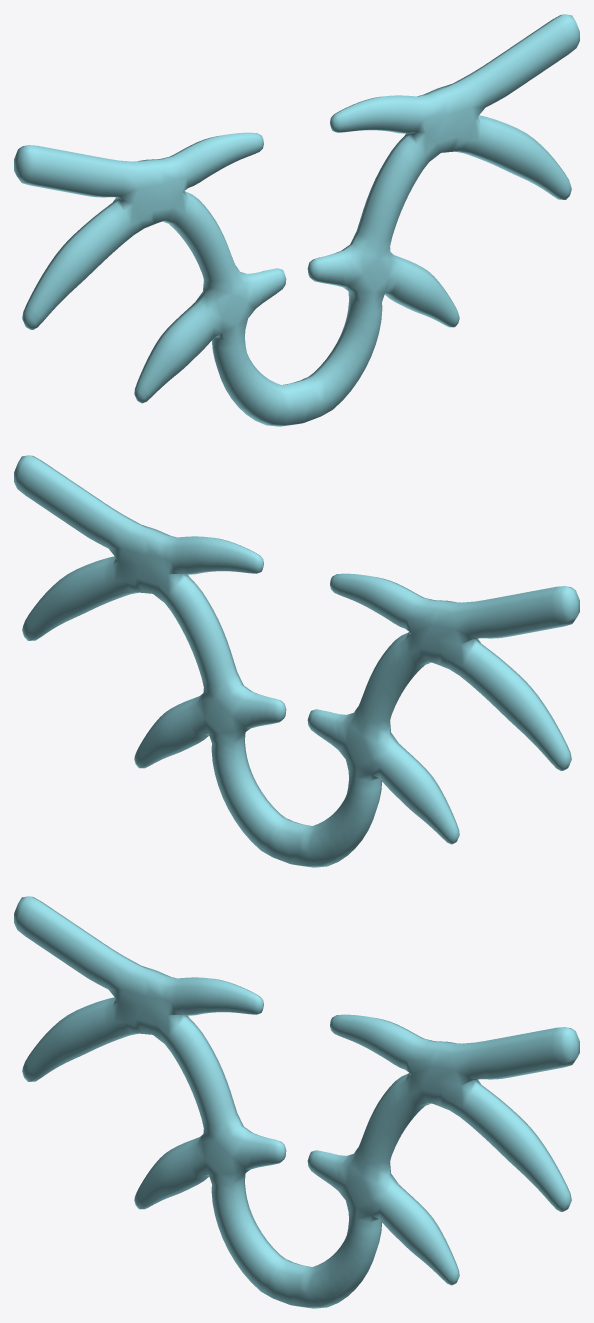
Rendered from MetalPattern.fbx.
3 views of the same model, one above another, from view 1: azimuth 30°, elevation 25°; view 2: azimuth 150°, elevation 25°; view 3: azimuth 330°, elevation 25° (orthographic).
Visible parts, largest first — view 1: Plane.015; view 2: Plane.015; view 3: Plane.015.
Boxes of the visible parts, x1,y1,x2,y2 form: Plane.015: (14,14,579,426); Plane.015: (14,455,579,867); Plane.015: (14,896,579,1308).
Size of the model in its own units: 14.76 by 8.68 by 0.808.
